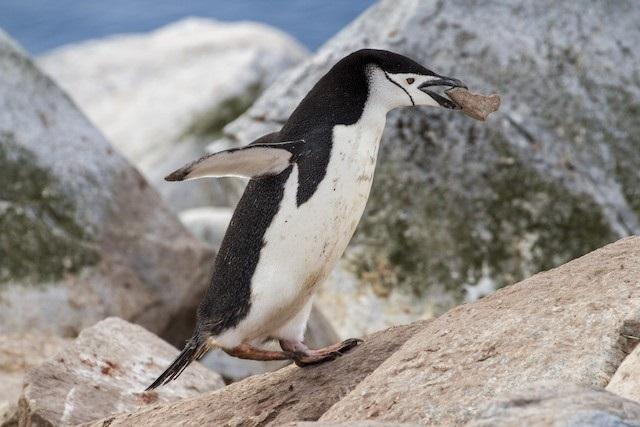chinstrap: (137, 42, 471, 378)
